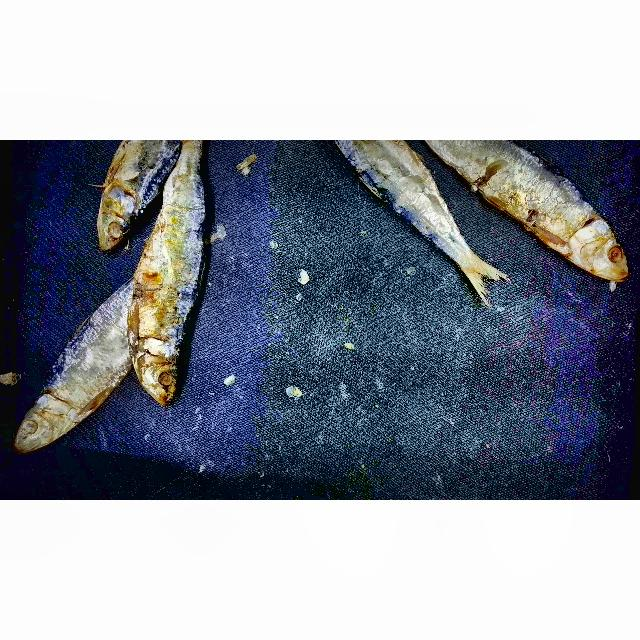Grade_C_Body: (425, 140, 586, 241), (335, 140, 453, 252), (126, 191, 212, 335), (57, 281, 133, 412), (106, 140, 178, 187)
Grade_C_Head: (554, 210, 632, 283), (13, 387, 83, 457), (90, 182, 147, 253), (127, 340, 184, 409)
Grade_C_Tail: (451, 235, 509, 306)
